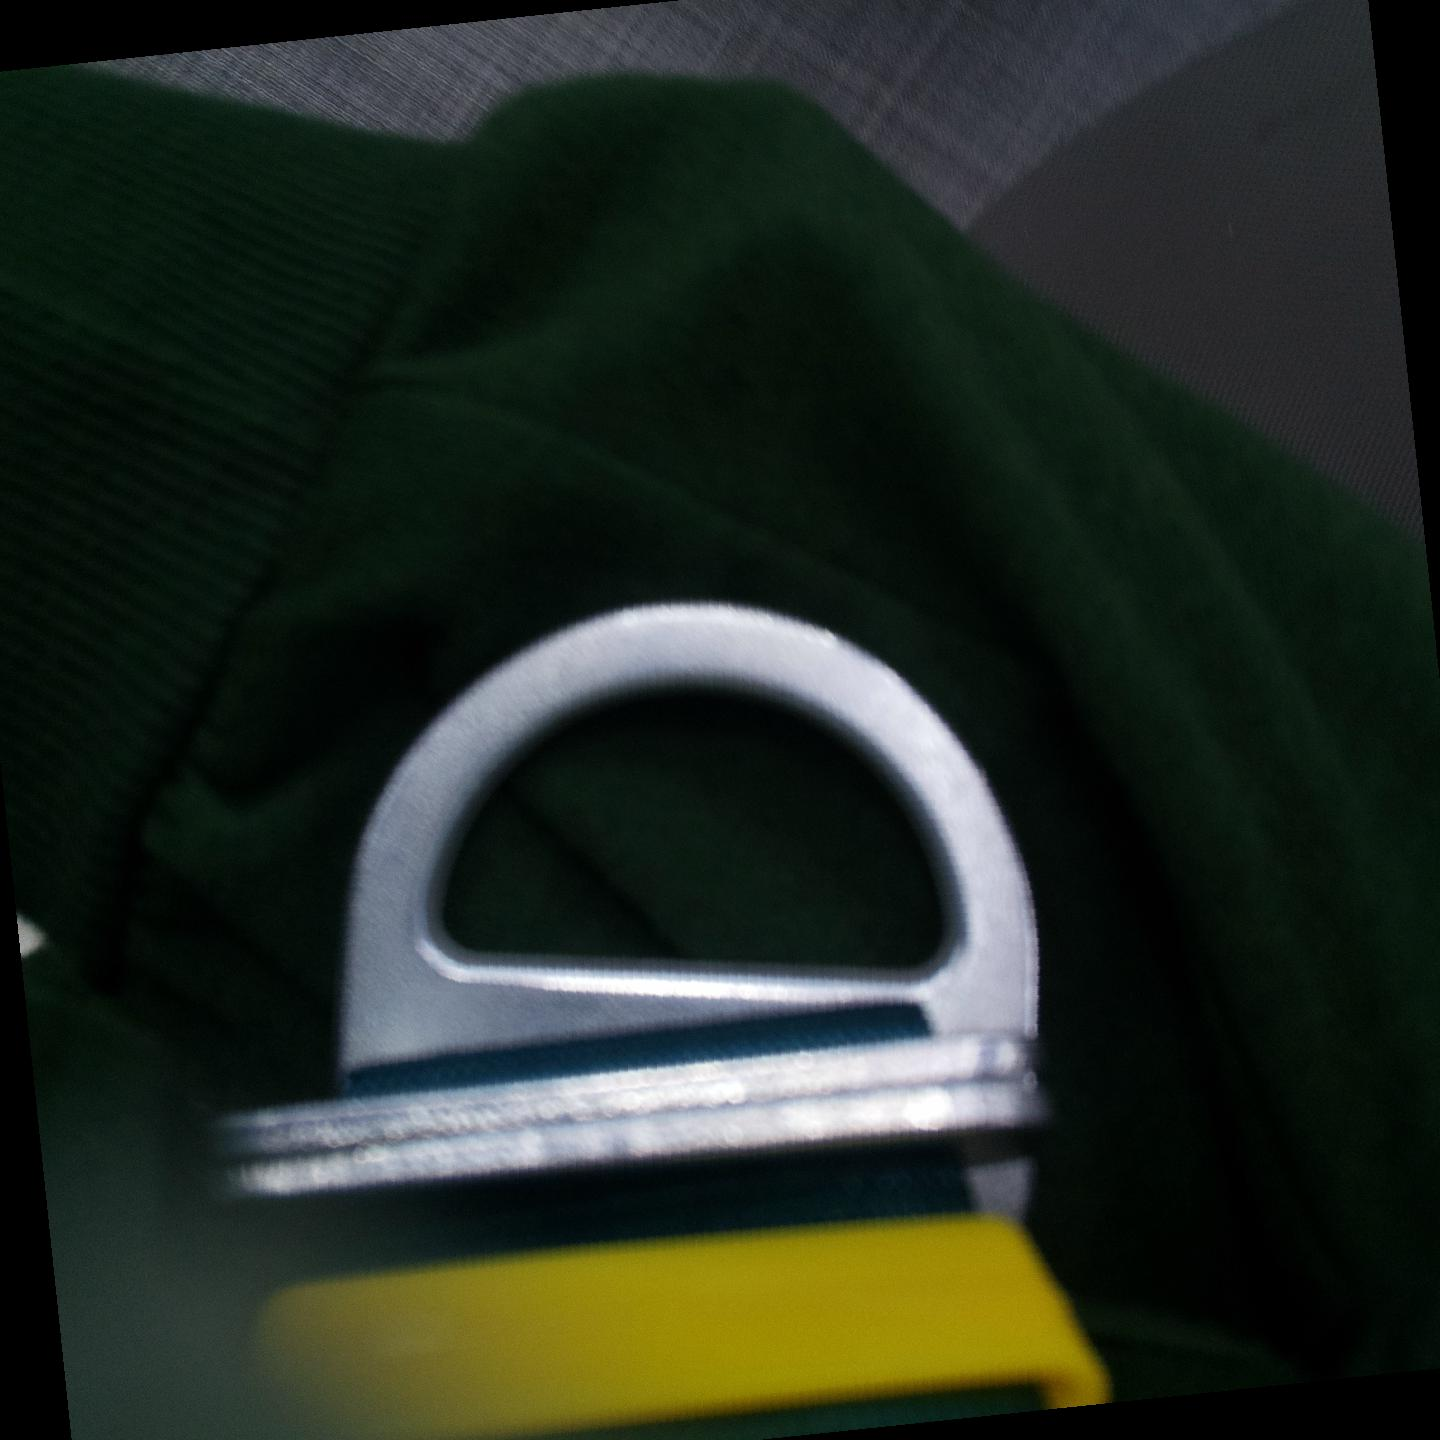UNSUCCESS: (342, 596, 1040, 1023)
